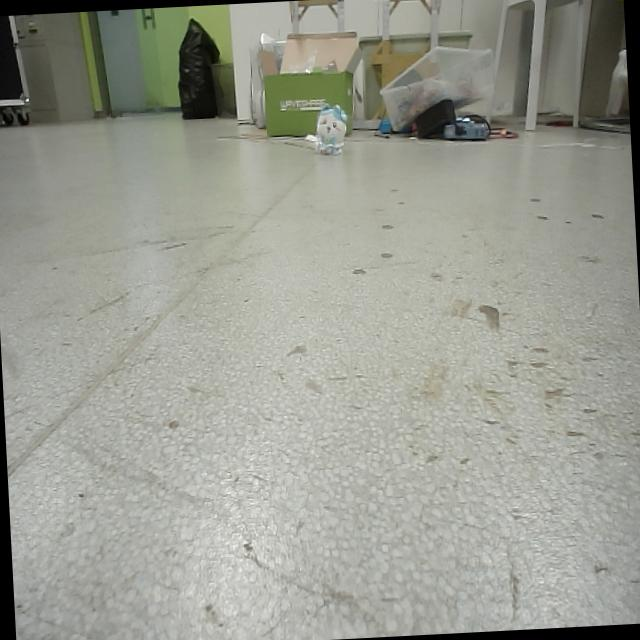xiaoba: (313, 100, 348, 159)
